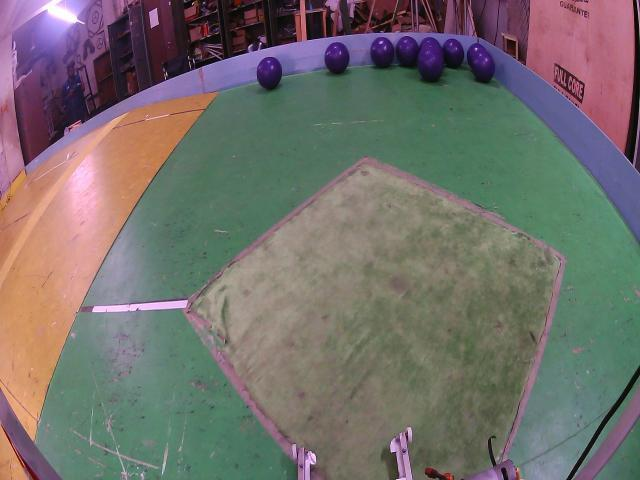jambhalya: (418, 45, 444, 82), (256, 57, 282, 90), (370, 37, 395, 68), (325, 42, 350, 73), (471, 52, 495, 82), (396, 37, 419, 67), (442, 38, 464, 68), (466, 43, 485, 67), (420, 37, 442, 50)
